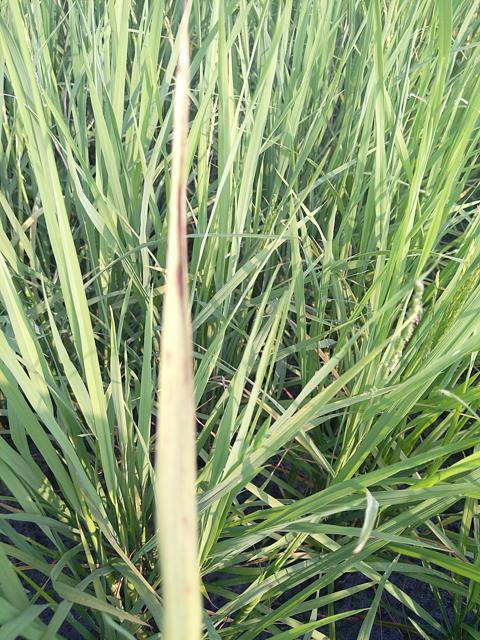Leaf Blight: (154, 3, 203, 639)
